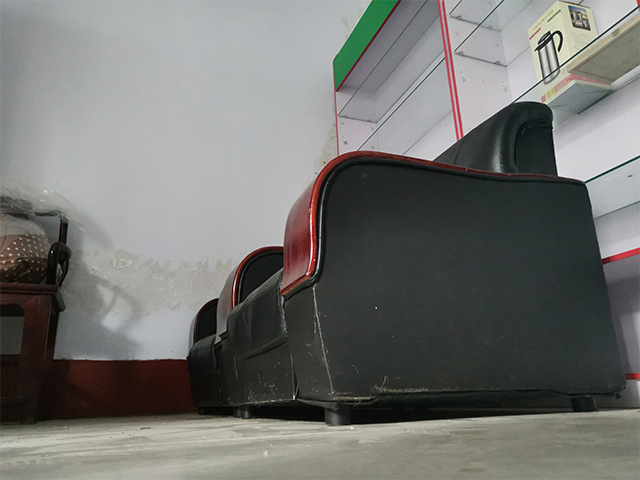sofa: (183, 99, 629, 428)
stool: (1, 206, 73, 428)
